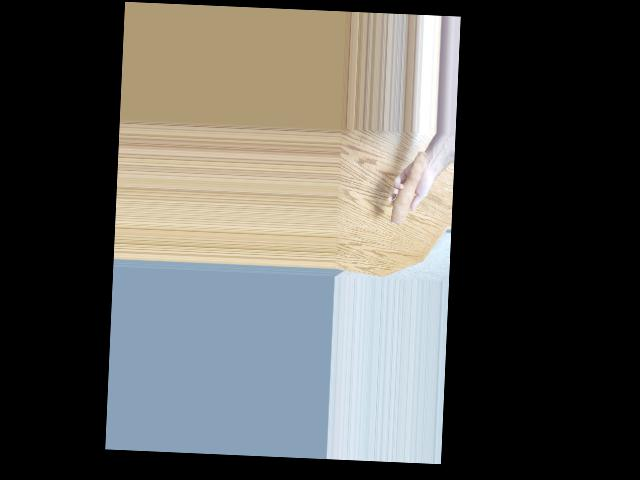sweet_potato: (388, 151, 428, 225)
